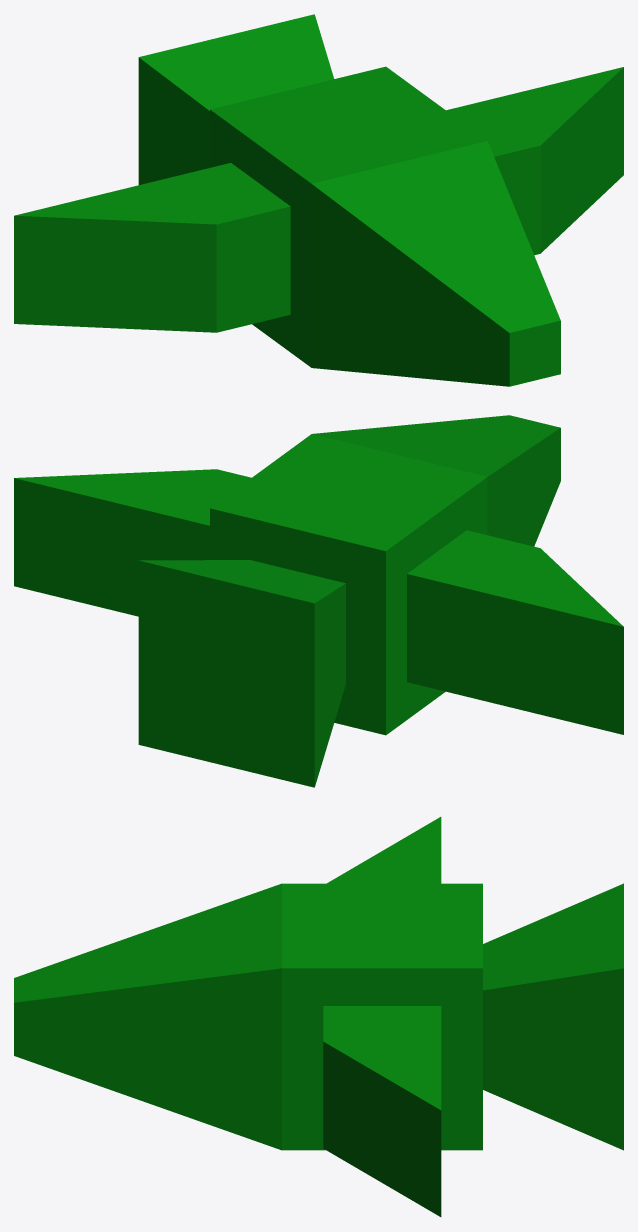
File: ship.fbx
3 renders of one model, top to bottom at view 1: azimuth 30°, elevation 25°; view 2: azimuth 150°, elevation 25°; view 3: azimuth 270°, elevation 25°, orthographic.
Parts seen in each view (by area): view 1: Ship; view 2: Ship; view 3: Ship.
Part boxes in pixels (bbox=[...]): Ship: bbox=[14, 14, 623, 386]; Ship: bbox=[14, 415, 623, 787]; Ship: bbox=[14, 817, 623, 1216].
Bounding box in the file's own units: 693 × 200 × 607.
